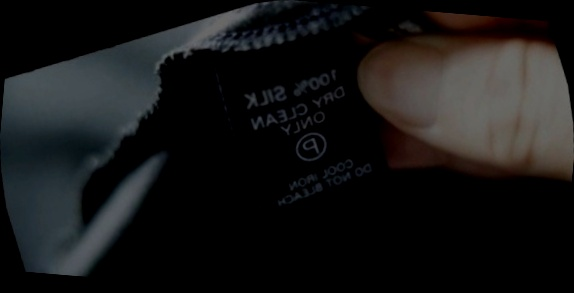dry_clean_any_solvent_except_trichloroethylene: (285, 123, 335, 170)
